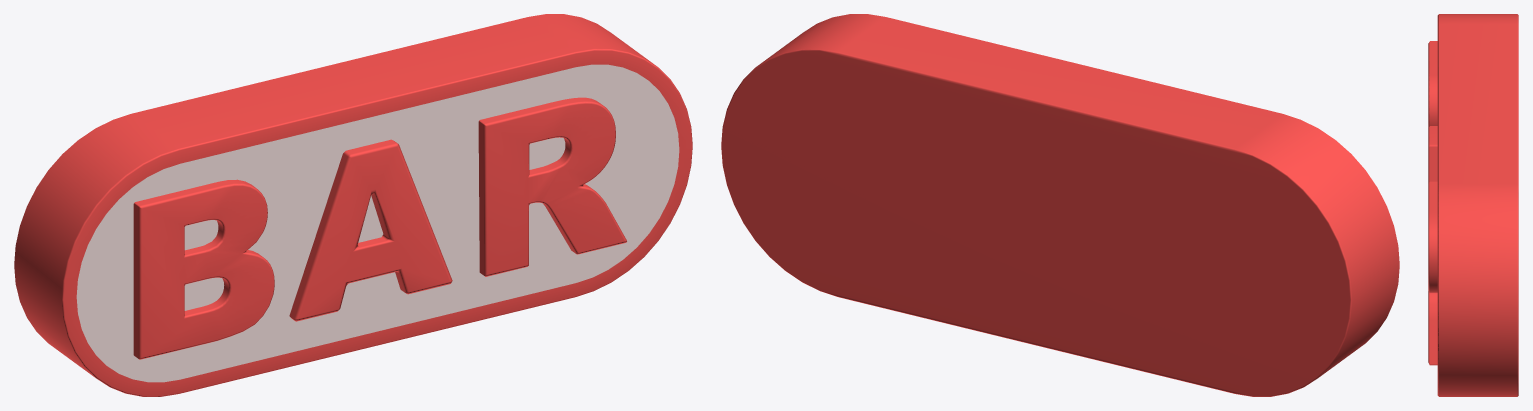
Rendered from Store_16_Bar_Sign_1.glb.
3 views of the same model, side by side, from view 1: azimuth 30°, elevation 25°; view 2: azimuth 150°, elevation 25°; view 3: azimuth 270°, elevation 25° (orthographic). The views are drawn at different scales.
Visible parts, largest first — view 1: Store_16_Bar_Sign_1; view 2: Store_16_Bar_Sign_1; view 3: Store_16_Bar_Sign_1.
Boxes of the visible parts, x1=… form: Store_16_Bar_Sign_1: x1=14, y1=14, x2=692, y2=396; Store_16_Bar_Sign_1: x1=721, y1=14, x2=1399, y2=396; Store_16_Bar_Sign_1: x1=1428, y1=14, x2=1518, y2=396.
Size of the model in its own units: 3.21 by 1.19 by 0.4839.
Materials: 1 (1 with a texture image).
